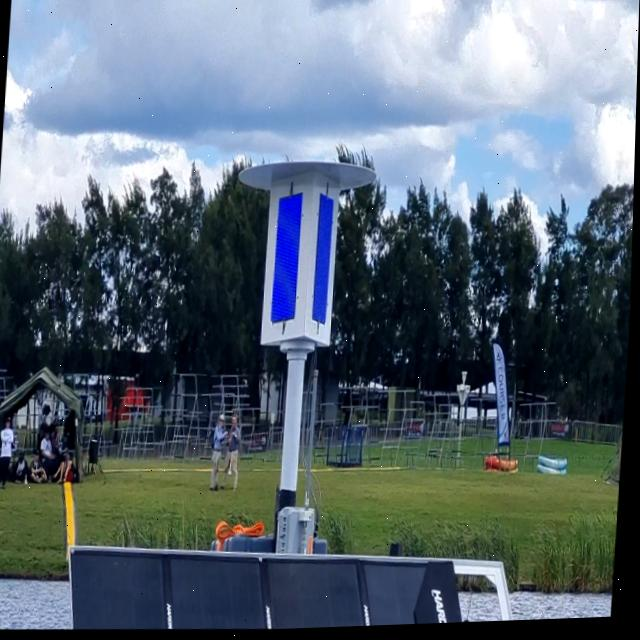led: (265, 185, 309, 334), (309, 182, 339, 337)
